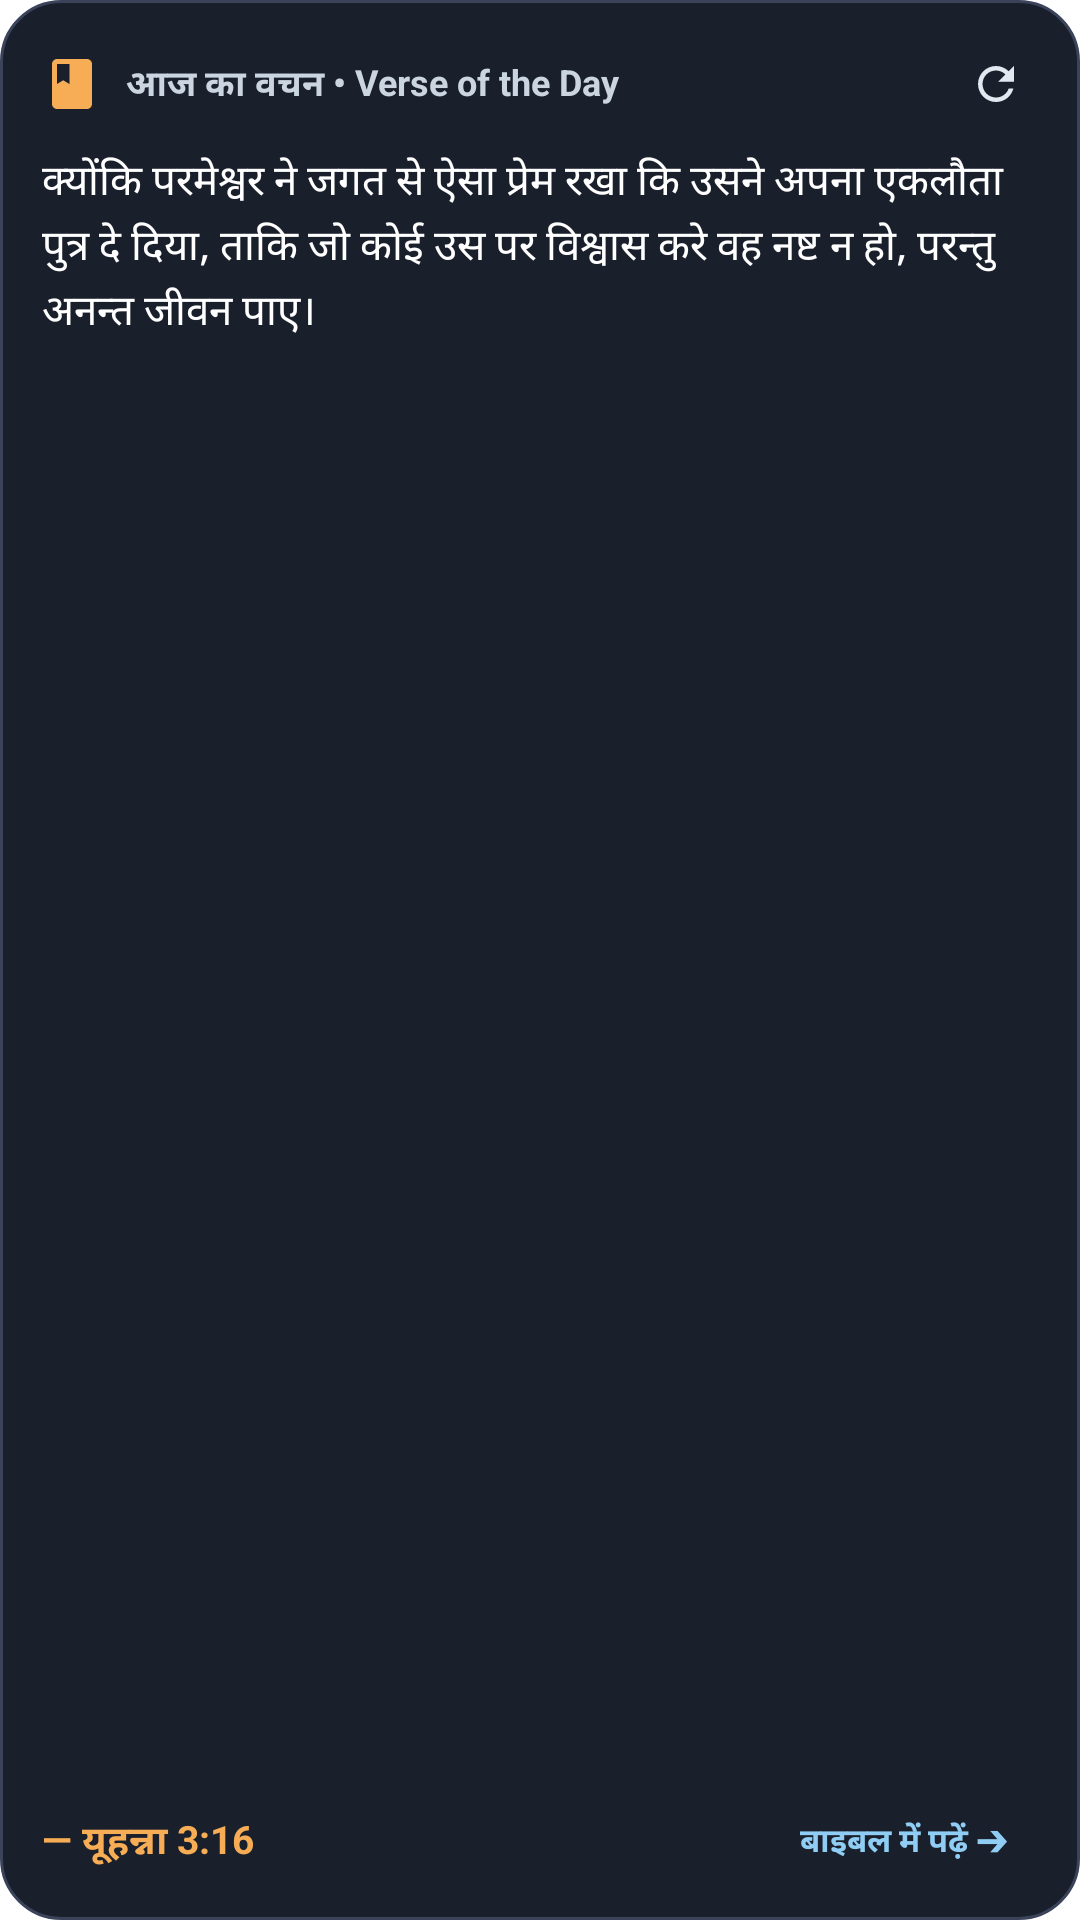

Screen size 1080px×1920px. Icon name, then its box in pixels as (x1, y1, x2, y2):
Bible Icon: (52, 59, 92, 109)
Refresh Verse: (978, 66, 1014, 102)
